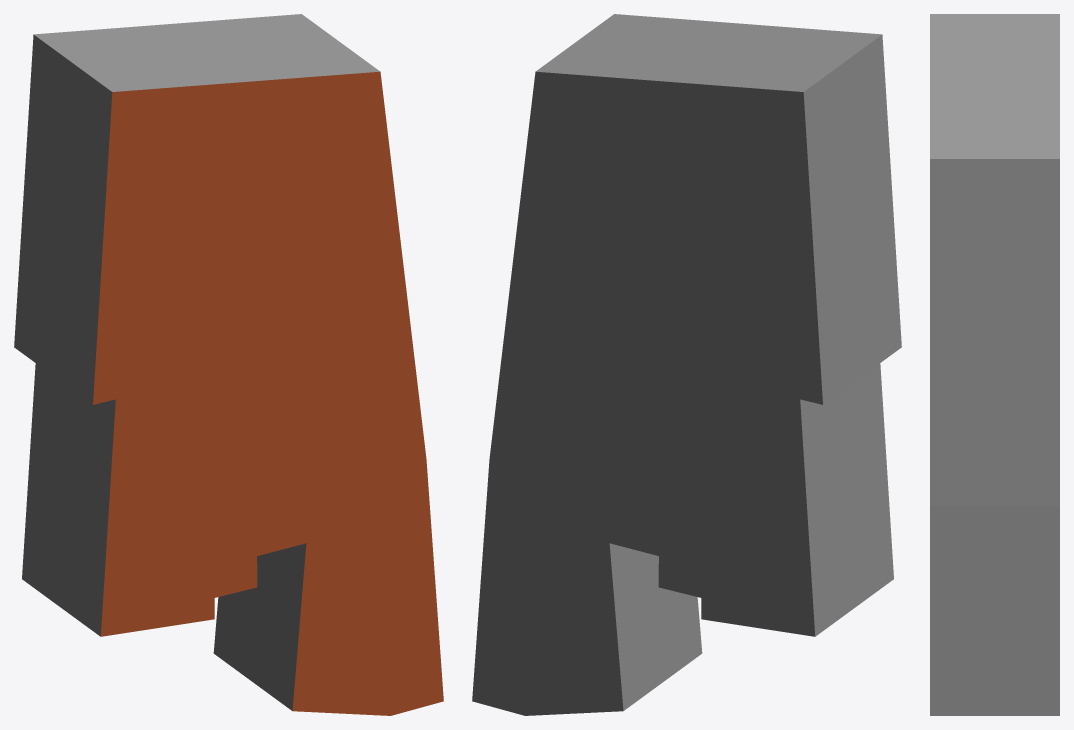
The model's file is construction_4010_assumed_A_Casa_h6m.obj.
3 renders of one model, left to right at view 1: azimuth 30°, elevation 25°; view 2: azimuth 150°, elevation 25°; view 3: azimuth 270°, elevation 25°, orthographic. The views are drawn at different scales.
Parts seen in each view (by area): view 1: construction_4010_assumed_A_Casa; view 2: construction_4010_assumed_A_Casa; view 3: construction_4010_assumed_A_Casa.
Boxes of the visible parts, x1,y1,x2,y2 form: construction_4010_assumed_A_Casa: [14, 14, 443, 715]; construction_4010_assumed_A_Casa: [472, 14, 901, 715]; construction_4010_assumed_A_Casa: [930, 14, 1059, 715].
Size of the model in its own units: 15.42 by 29.05 by 6.
